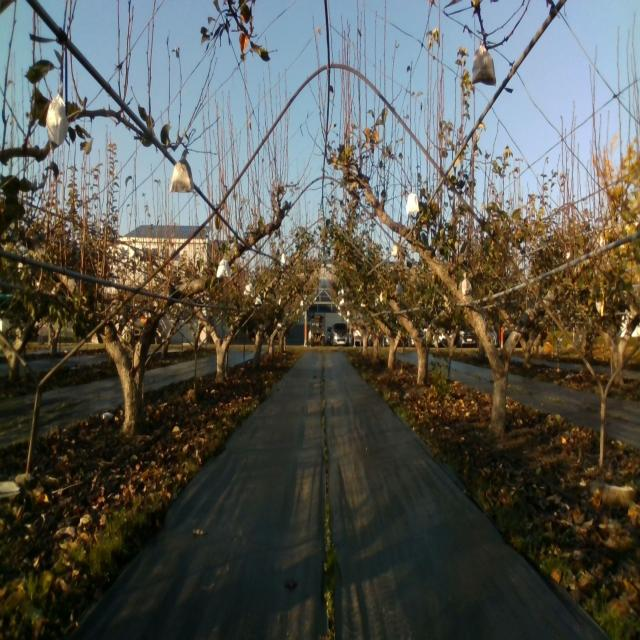pearbags: (46, 84, 70, 145), (471, 42, 496, 88), (169, 150, 194, 194), (405, 188, 419, 214), (216, 256, 231, 279), (462, 272, 472, 296)
